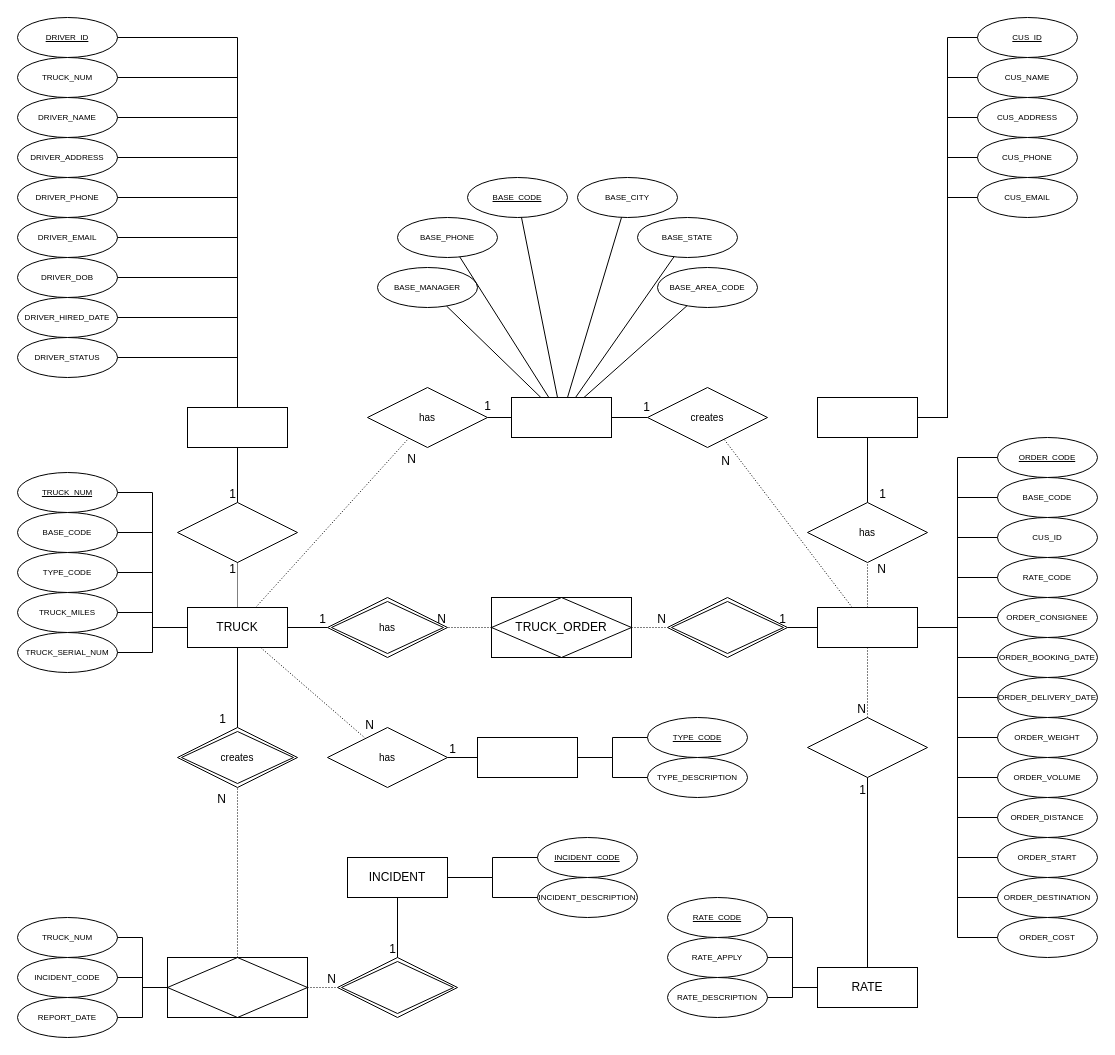
This 1115x1055 diagram has some shape labels left out. Here are the shapes that lost their labels. From the top down, the centre of each, then its label:
At [237,427]: "DRIVER".
At [561,417]: "BASE".
At [867,417]: "CUSTOMER".
At [237,532]: "drives".
At [727,627]: "runs".
At [867,627]: "ORDER".
At [527,757]: "TYPE".
At [867,747]: "applies".
At [237,987]: "REPORT".
At [397,987]: "occurs".
